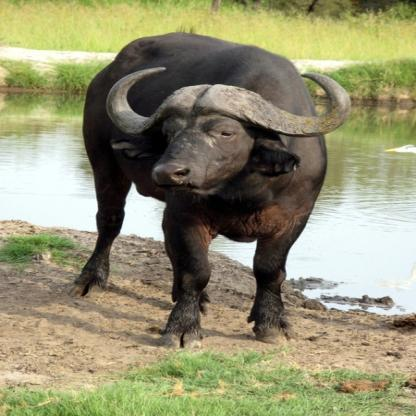buffalo: (82, 20, 298, 346)
